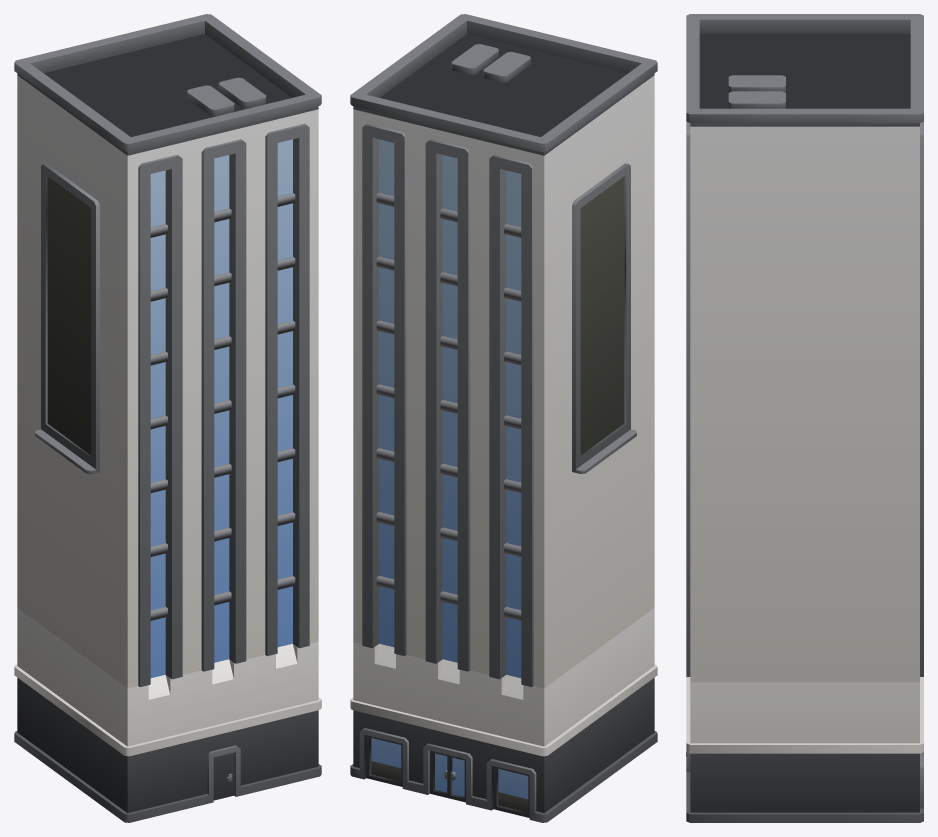
The model's file is com-building-skyscraper-e.glb.
The picture shows the model from 3 angles, left to right: view 1: azimuth 30°, elevation 25°; view 2: azimuth 150°, elevation 25°; view 3: azimuth 270°, elevation 25°; orthographic projection. The views are drawn at different scales.
Parts seen in each view (by area): view 1: building-skyscraper-e; view 2: building-skyscraper-e; view 3: building-skyscraper-e.
Part boxes in pixels (box(x1,y1,x2,y2)): building-skyscraper-e: box(14, 14, 321, 822); building-skyscraper-e: box(350, 14, 657, 822); building-skyscraper-e: box(686, 14, 923, 822).
Bounding box in the file's own units: 1.3 × 4.08 × 1.24.
Materials: 1 (1 with a texture image).
